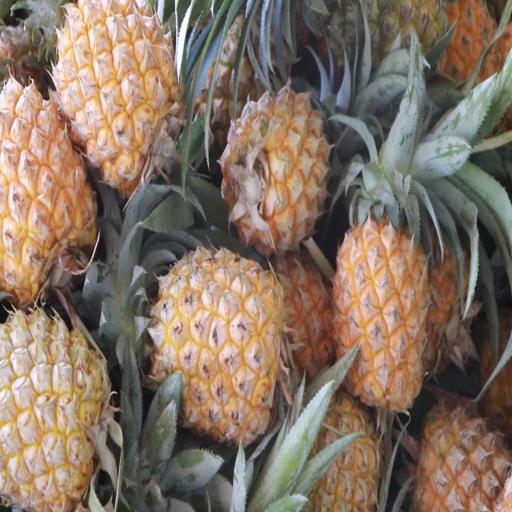Pineapple - v8 v1: (156, 252, 285, 441), (58, 0, 180, 192), (0, 312, 109, 511), (0, 83, 96, 305), (332, 208, 430, 409), (226, 88, 329, 246)
